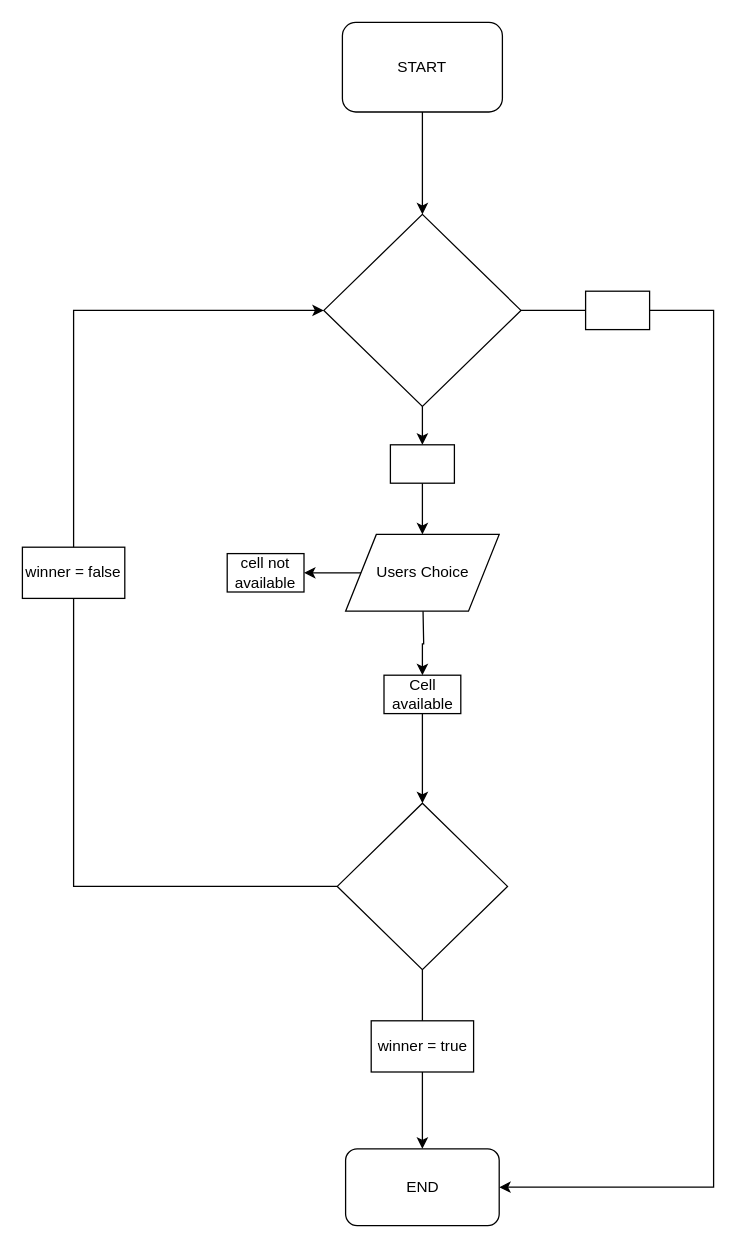
Image size: 746x1248. Some labels were removed from this diagram. The shapes that lost their labels are listed below. From the top down, each one's box as (x1, y1, x2, y2) in pixels, then its label:
(323, 213, 521, 406): Check for Game Over
(584, 290, 650, 330): true
(389, 444, 454, 483): false
(336, 802, 508, 970): Check for Winner
